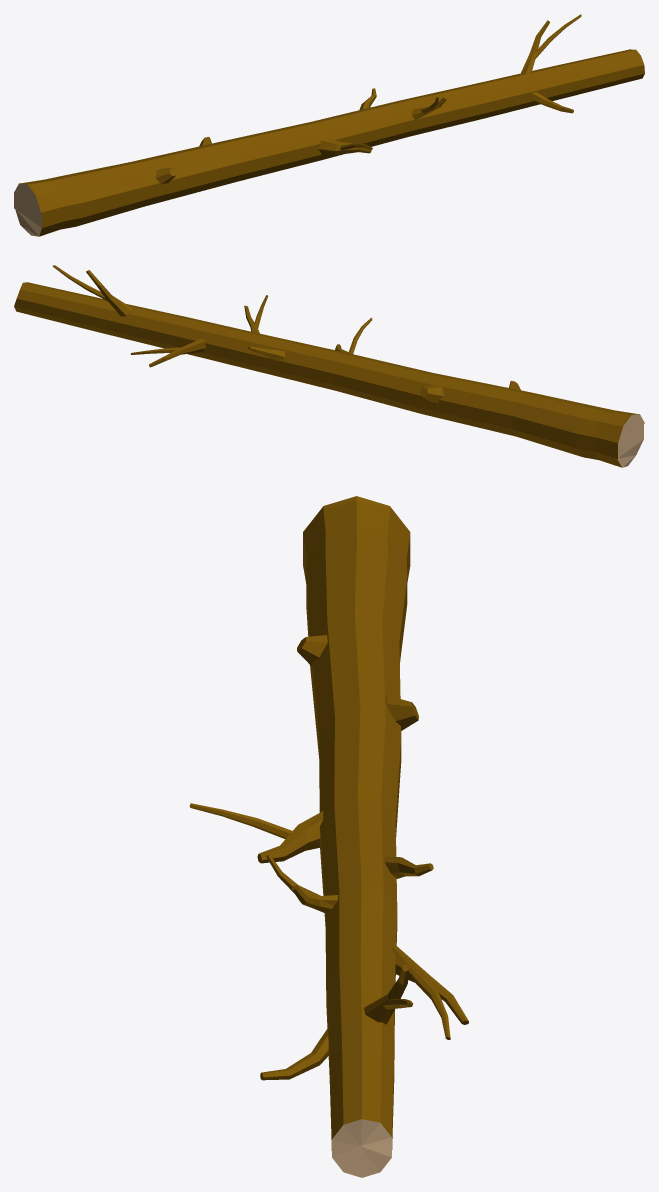
File: Vegetation_Tree_Trunk_Fallen_10.fbx
3 views of the same model, one above another, from view 1: azimuth 30°, elevation 25°; view 2: azimuth 150°, elevation 25°; view 3: azimuth 270°, elevation 25° (orthographic). The views are drawn at different scales.
Parts seen in each view (by area): view 1: Vegetation_Tree_Trunk_Fallen_10; view 2: Vegetation_Tree_Trunk_Fallen_10; view 3: Vegetation_Tree_Trunk_Fallen_10.
Part boxes in pixels (bbox=[...]): Vegetation_Tree_Trunk_Fallen_10: bbox=[14, 14, 644, 236]; Vegetation_Tree_Trunk_Fallen_10: bbox=[14, 265, 644, 467]; Vegetation_Tree_Trunk_Fallen_10: bbox=[189, 496, 468, 1177].
Bounding box in the file's own units: 8167 × 980 × 1621.
